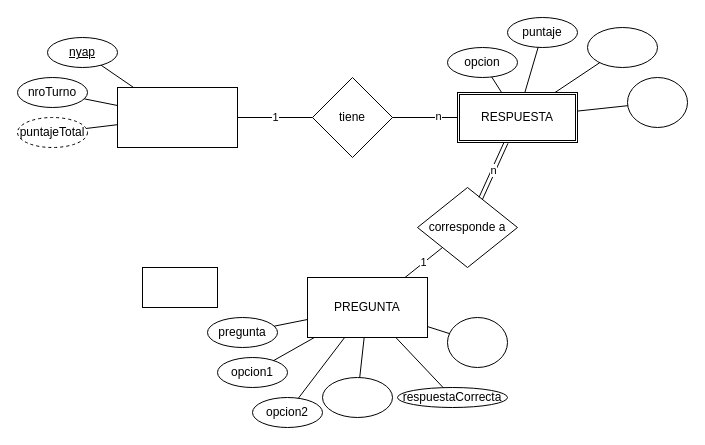
This 705x445 diagram has some shape labels left out. The shapes that lost their labels are listed below. From the top down, each one's centre as x and y in pixels, then its label:
the point at 622,47: tiempo tardado
the point at 177,117: JUGADOR
the point at 657,102: id (posicion en lista)
the point at 180,287: NIVEL
the point at 477,342: ID_Preg
the point at 357,397: opcion3
